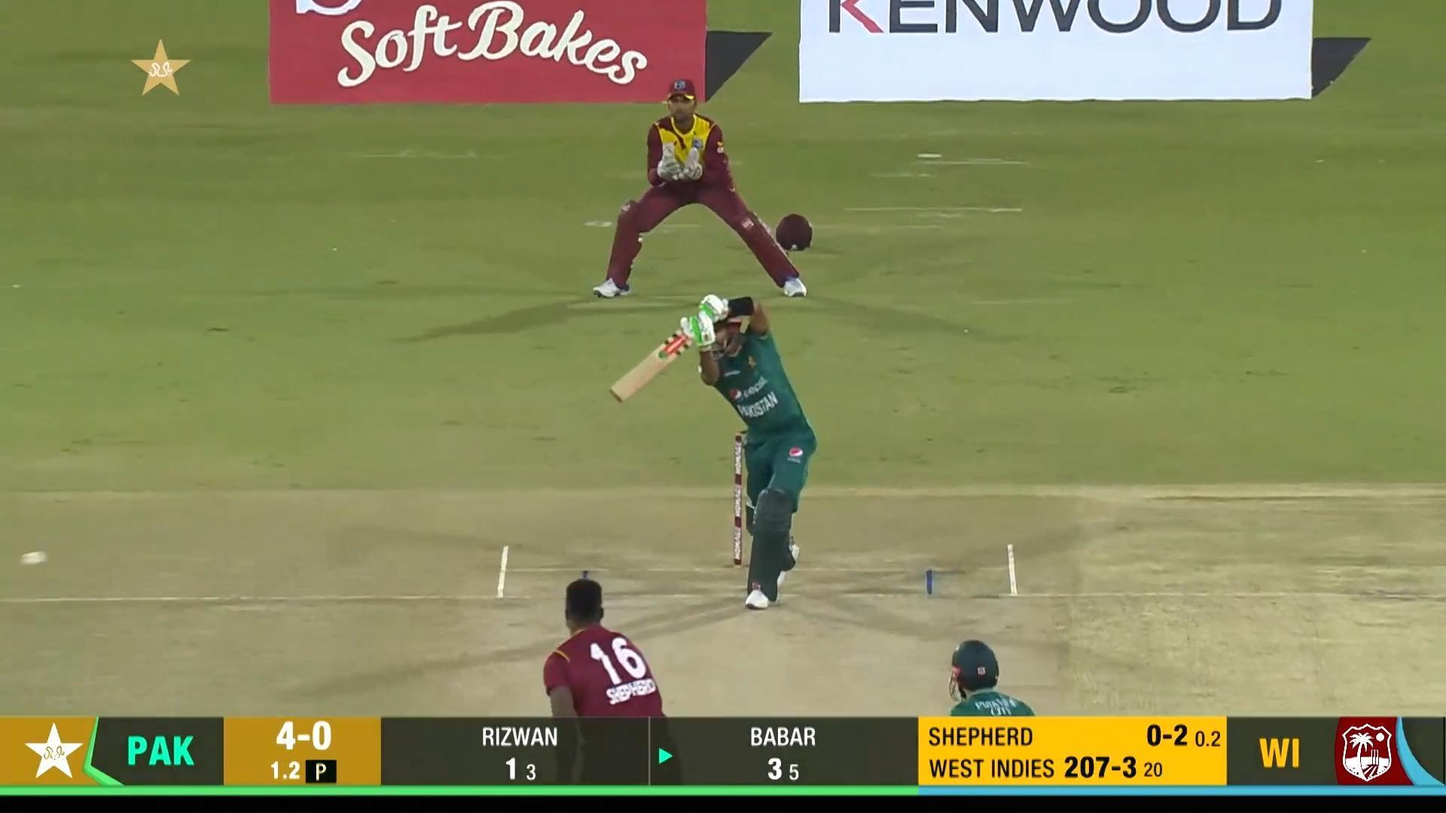BM 1: (606, 293, 818, 612)
BO: (542, 577, 672, 717)
